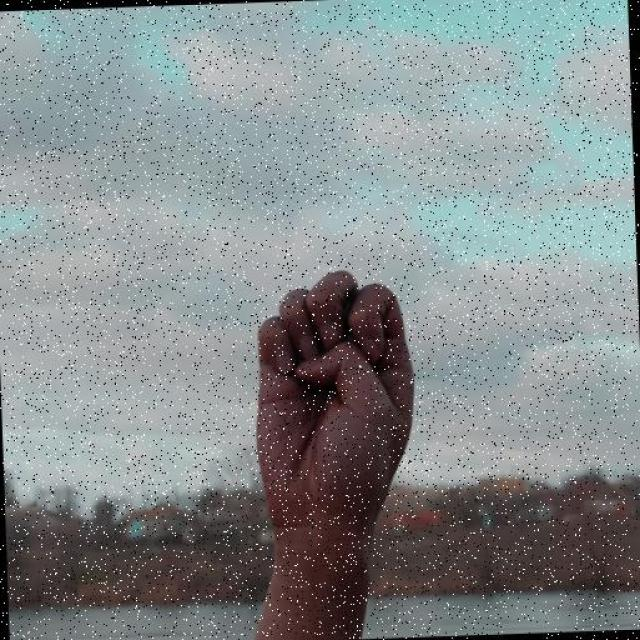E: (245, 262, 426, 563)
